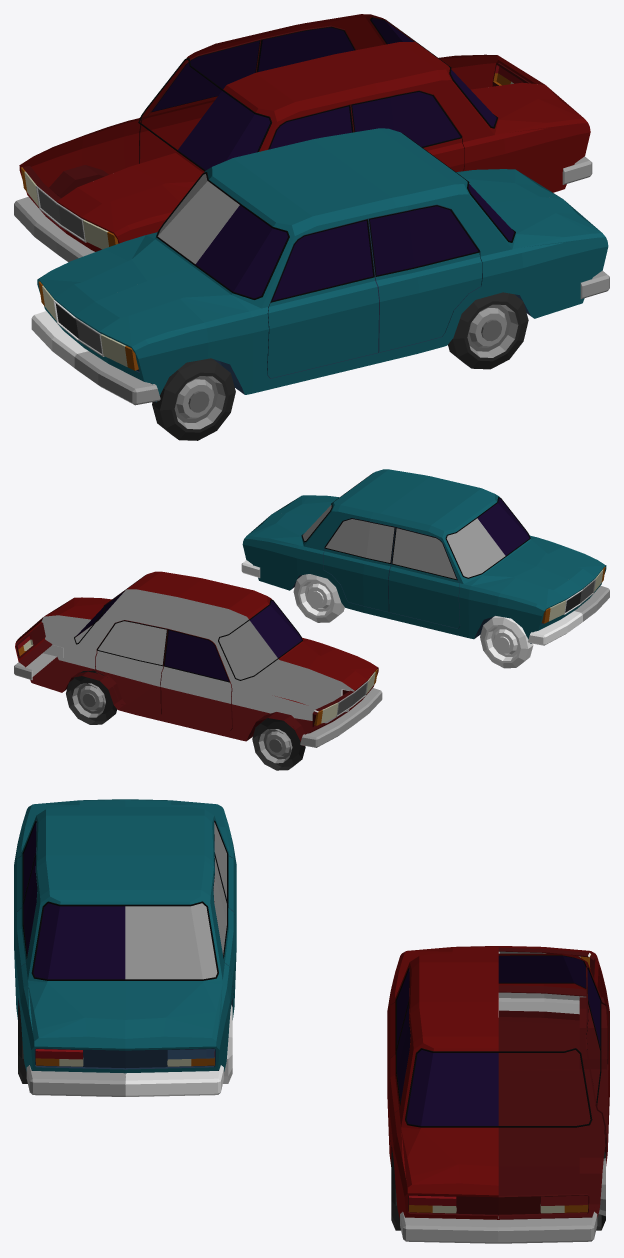
File: transport.fbx
The picture shows the model from 3 angles, top to bottom: view 1: azimuth 30°, elevation 25°; view 2: azimuth 150°, elevation 25°; view 3: azimuth 270°, elevation 25°; orthographic projection. The views are drawn at different scales.
Visible parts, largest first — view 1: Жигули 6 с, Жигули 6 к; view 2: Жигули 6 с, Жигули 6 к; view 3: Жигули 6 к, Жигули 6 с.
Part boxes in pixels (<box>): Жигули 6 с: <box>31,128,609,440</box>; Жигули 6 к: <box>14,14,592,262</box>; Жигули 6 с: <box>241,469,609,668</box>; Жигули 6 к: <box>14,571,382,770</box>; Жигули 6 к: <box>387,946,609,1243</box>; Жигули 6 с: <box>14,799,236,1096</box>.
Size of the model in its own units: 565 by 203 by 442.
